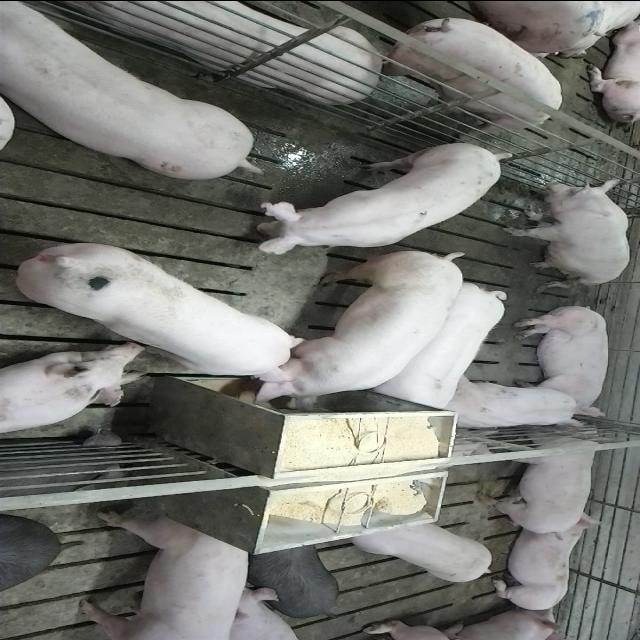Feeding: (15, 240, 308, 388), (244, 252, 466, 416)
Lateral_lying: (512, 302, 612, 418)
Sitting: (502, 176, 632, 286)
Standing: (0, 0, 258, 176), (240, 138, 509, 250), (73, 508, 255, 638), (378, 9, 564, 130), (372, 280, 512, 410), (474, 422, 612, 535), (348, 516, 498, 584), (242, 540, 342, 620)
Sternal_lying: (40, 0, 379, 101), (0, 346, 147, 437), (484, 517, 606, 613), (442, 378, 594, 432)
